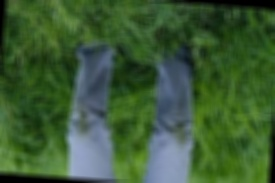earth: (177, 123, 187, 147), (81, 112, 89, 135)
